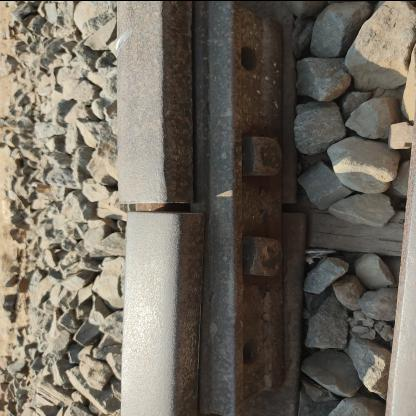Defective 2: (98, 170, 204, 252)
Defective 3: (203, 1, 325, 415)
